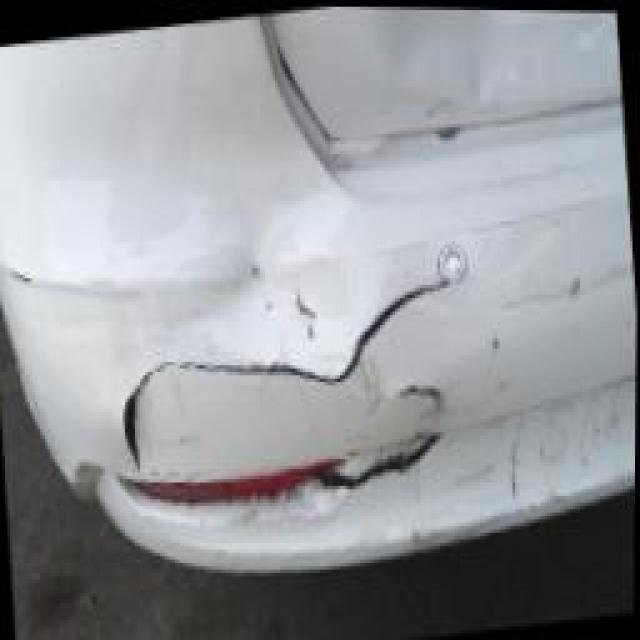Bumper: (0, 206, 537, 557)
